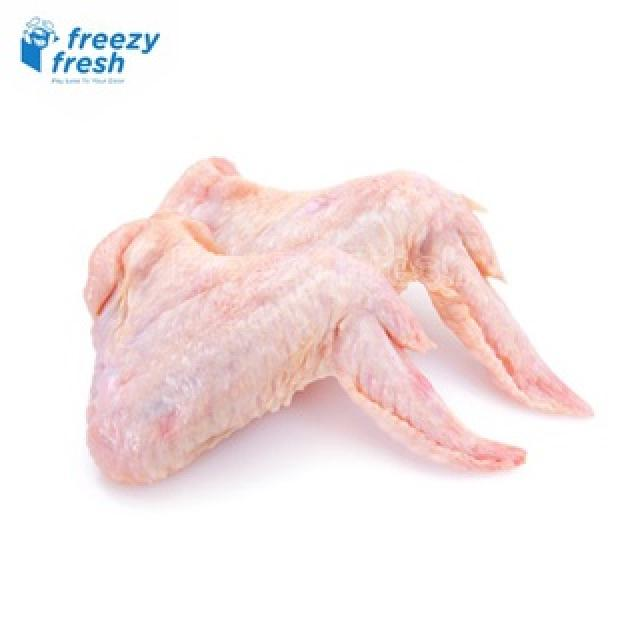chicken: (80, 157, 596, 481), (85, 220, 524, 481)
